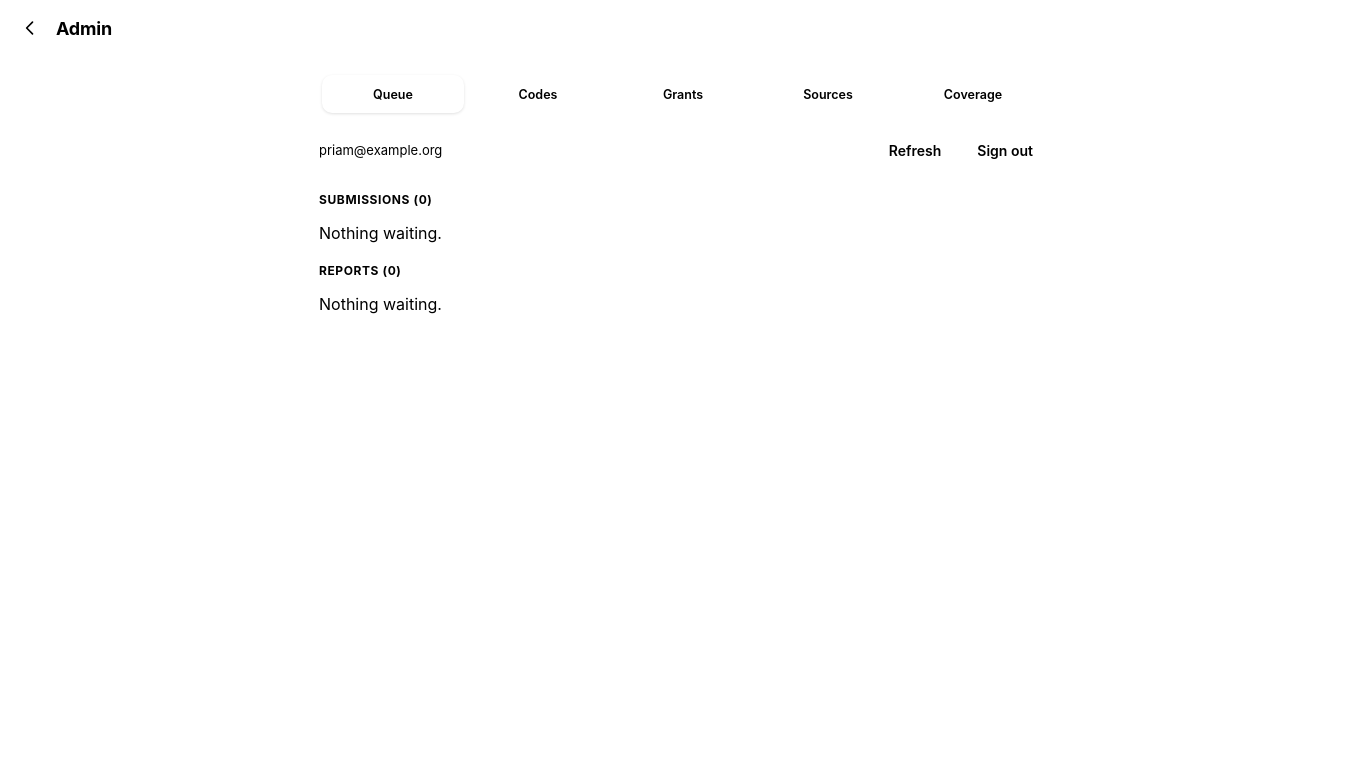
Test: code requests (M8 slice F) › generates: the code, the email and its mailto, then the list refreshes
What coordinates should you click on to do the following:
click the tab "Codes"
I would click on:
 (538, 94)
Its box is x1=467 y1=75 x2=609 y2=113.
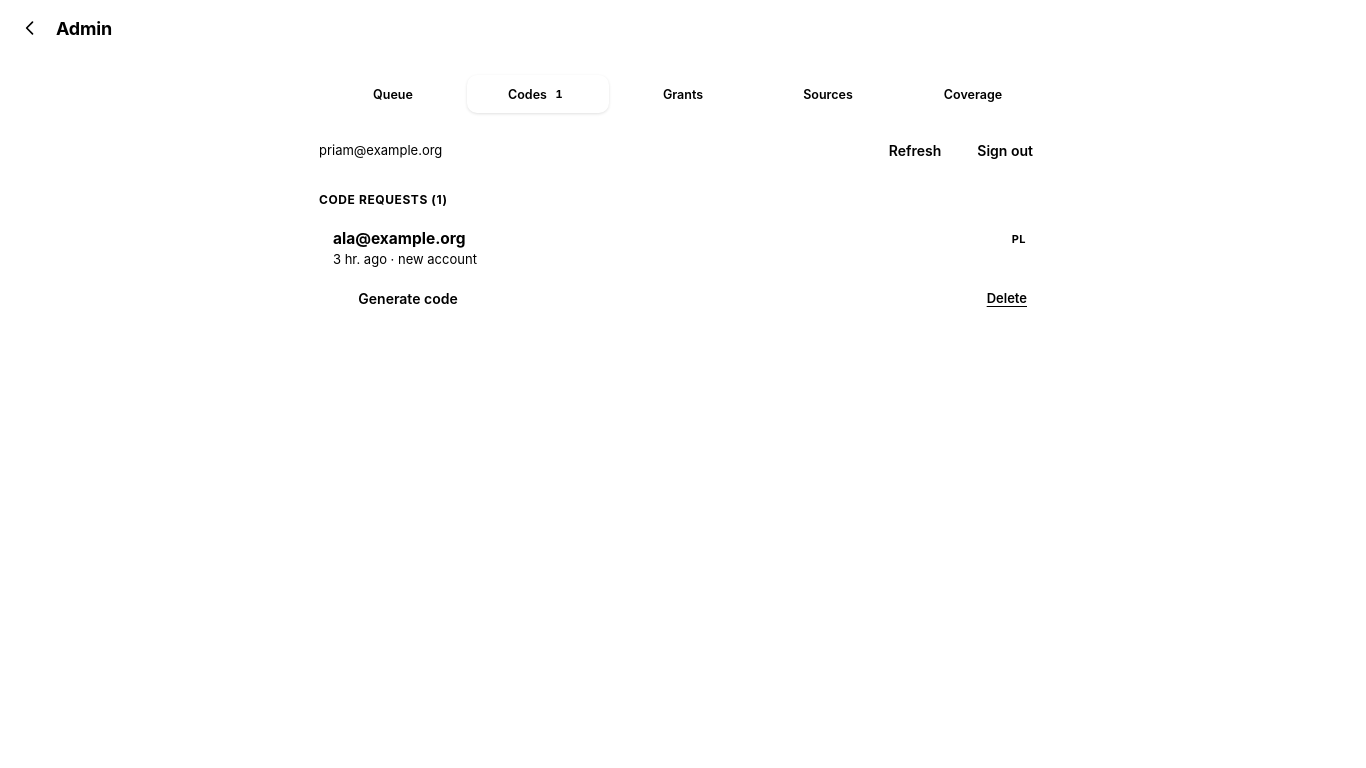
What coordinates should you click on to do the following:
click the button "Generate code"
I would click on:
 (408, 298)
Its box is x1=333 y1=277 x2=483 y2=319.
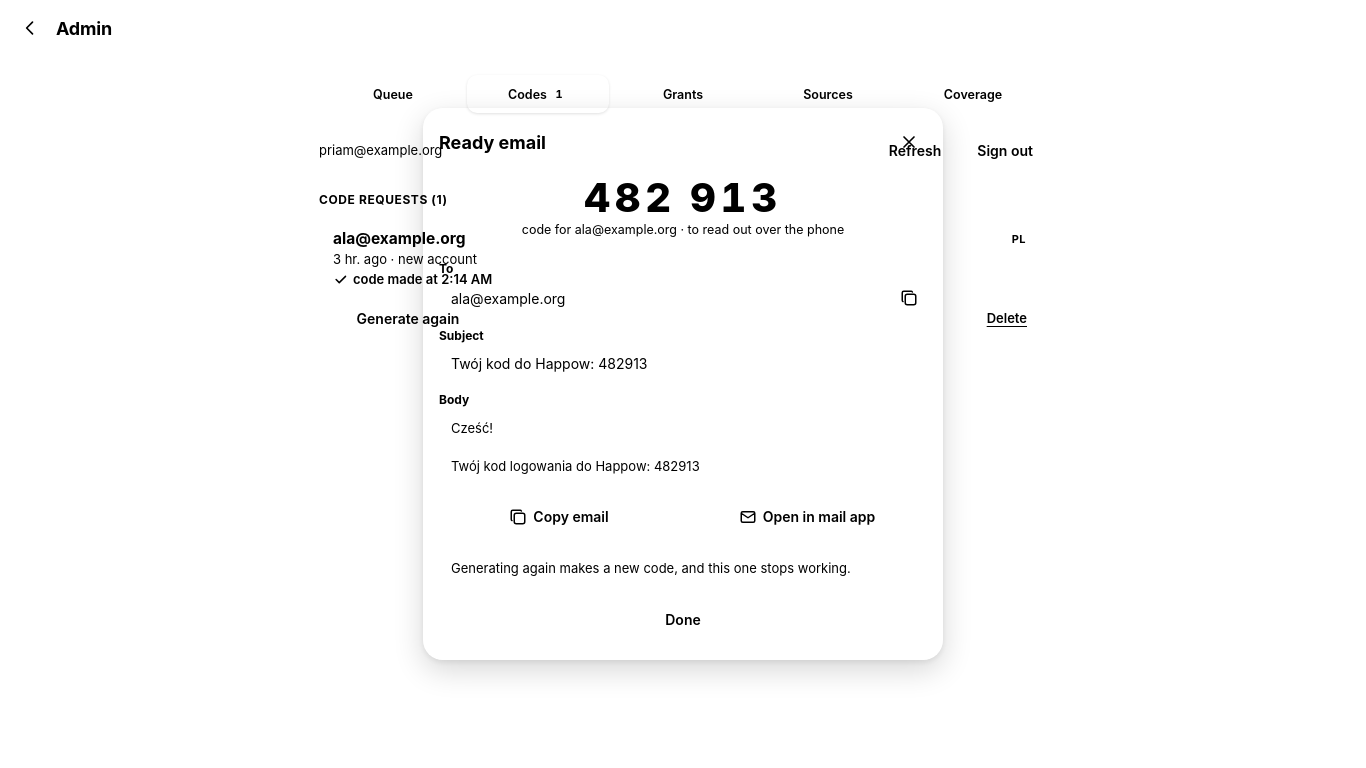
expect the dialog "Ready email" shows "Twój kod do Happow: 482913": met, box x1=451 y1=355 x2=648 y2=372
expect the dialog "Ready email" shows "Cześć!": met, box x1=451 y1=420 x2=700 y2=474
expect the text "code made at 2:14 AM" is shown: met, box x1=333 y1=271 x2=492 y2=287
